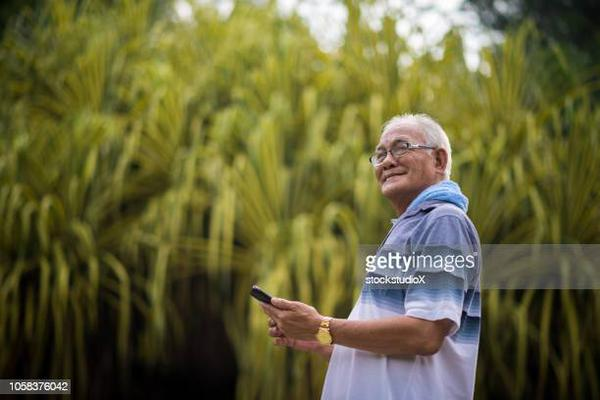Malay: (371, 127, 427, 192)
